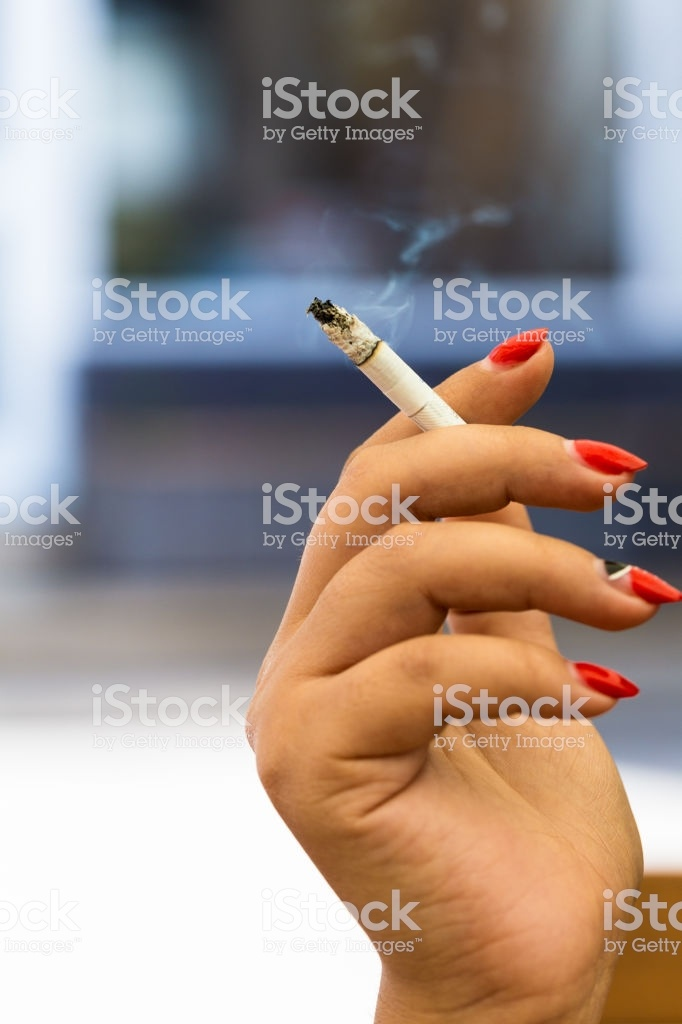sigaretta: (297, 297, 494, 461)
